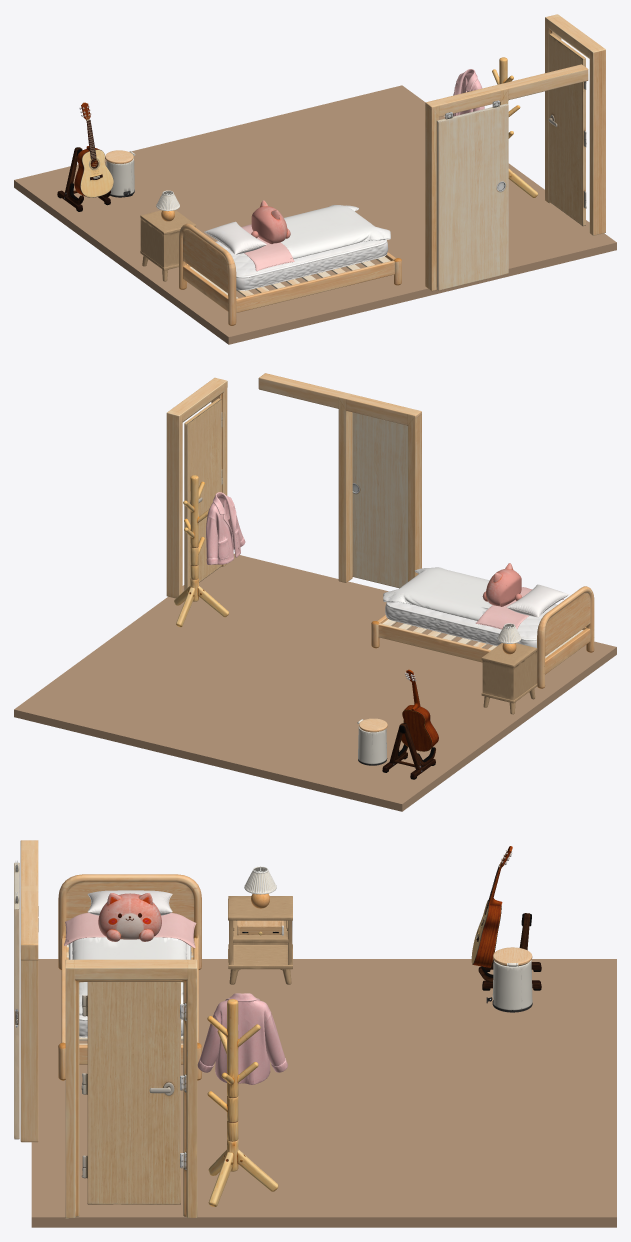
3 views of the same model, one above another, from view 1: azimuth 30°, elevation 25°; view 2: azimuth 150°, elevation 25°; view 3: azimuth 270°, elevation 25° (orthographic). The views are drawn at different scales.
Visible parts, largest first — view 1: bedroom.floor, d02-closet-leaf.mesh.0, b01-bed-frame.mesh.0, d04-entry-leaf.mesh.0, d01-closet-frame.mesh.0, d03-entry-frame.mesh.0, b03-duvet.mesh.0, b02-mattress.mesh.0, n01-carcass.mesh.0, g01-guitar.mesh.0, b05-peach-cat.mesh.0, b04-pillow.mesh.0 (+4 smaller); view 2: bedroom.floor, d02-closet-leaf.mesh.0, d01-closet-frame.mesh.0, b01-bed-frame.mesh.0, d03-entry-frame.mesh.0, d04-entry-leaf.mesh.0, b03-duvet.mesh.0, b02-mattress.mesh.0, n01-carcass.mesh.0, c02-pink-coat.mesh.0, c01-coat-rack.mesh.0, g01-guitar.mesh.0 (+4 smaller); view 3: bedroom.floor, d04-entry-leaf.mesh.0, d03-entry-frame.mesh.0, b01-bed-frame.mesh.0, d01-closet-frame.mesh.0, c02-pink-coat.mesh.0, b03-duvet.mesh.0, n01-carcass.mesh.0, c01-coat-rack.mesh.0, b05-peach-cat.mesh.0, t01-bin-body.mesh.0, g01-guitar.mesh.0 (+6 smaller).
Boxes of the visible parts, left/top/right/bottom form: bedroom.floor: left=14, top=85, right=616, bottom=344; d02-closet-leaf.mesh.0: left=436, top=100, right=508, bottom=290; b01-bed-frame.mesh.0: left=179, top=223, right=401, bottom=325; d04-entry-leaf.mesh.0: left=548, top=33, right=586, bottom=225; d01-closet-frame.mesh.0: left=425, top=64, right=588, bottom=291; d03-entry-frame.mesh.0: left=545, top=14, right=605, bottom=235; b03-duvet.mesh.0: left=241, top=205, right=390, bottom=271; b02-mattress.mesh.0: left=216, top=239, right=388, bottom=290; n01-carcass.mesh.0: left=140, top=210, right=195, bottom=281; g01-guitar.mesh.0: left=74, top=102, right=113, bottom=197; b05-peach-cat.mesh.0: left=251, top=200, right=290, bottom=243; b04-pillow.mesh.0: left=204, top=221, right=266, bottom=254; bedroom.floor: left=14, top=553, right=616, bottom=811; d02-closet-leaf.mesh.0: left=352, top=412, right=407, bottom=588; d01-closet-frame.mesh.0: left=258, top=373, right=421, bottom=582; b01-bed-frame.mesh.0: left=371, top=586, right=594, bottom=688; d03-entry-frame.mesh.0: left=166, top=377, right=227, bottom=598; d04-entry-leaf.mesh.0: left=184, top=398, right=222, bottom=590; b03-duvet.mesh.0: left=383, top=567, right=563, bottom=629; b02-mattress.mesh.0: left=385, top=602, right=557, bottom=647; n01-carcass.mesh.0: left=481, top=643, right=537, bottom=714; c02-pink-coat.mesh.0: left=206, top=492, right=245, bottom=564; c01-coat-rack.mesh.0: left=174, top=475, right=228, bottom=627; g01-guitar.mesh.0: left=401, top=669, right=438, bottom=751; bedroom.floor: left=31, top=959, right=616, bottom=1227; d04-entry-leaf.mesh.0: left=81, top=982, right=180, bottom=1204; d03-entry-frame.mesh.0: left=65, top=959, right=197, bottom=1218; b01-bed-frame.mesh.0: left=58, top=874, right=201, bottom=1080; d01-closet-frame.mesh.0: left=20, top=840, right=38, bottom=1142; c02-pink-coat.mesh.0: left=197, top=993, right=287, bottom=1084; b03-duvet.mesh.0: left=64, top=912, right=196, bottom=1015; n01-carcass.mesh.0: left=228, top=896, right=292, bottom=984; c01-coat-rack.mesh.0: left=207, top=999, right=278, bottom=1206; b05-peach-cat.mesh.0: left=98, top=893, right=161, bottom=941; t01-bin-body.mesh.0: left=492, top=960, right=532, bottom=1012; g01-guitar.mesh.0: left=471, top=846, right=512, bottom=967.
Bounding box in the file's own units: 4.82 × 2.27 × 4.74.
Materials: 25 (23 with a texture image).
